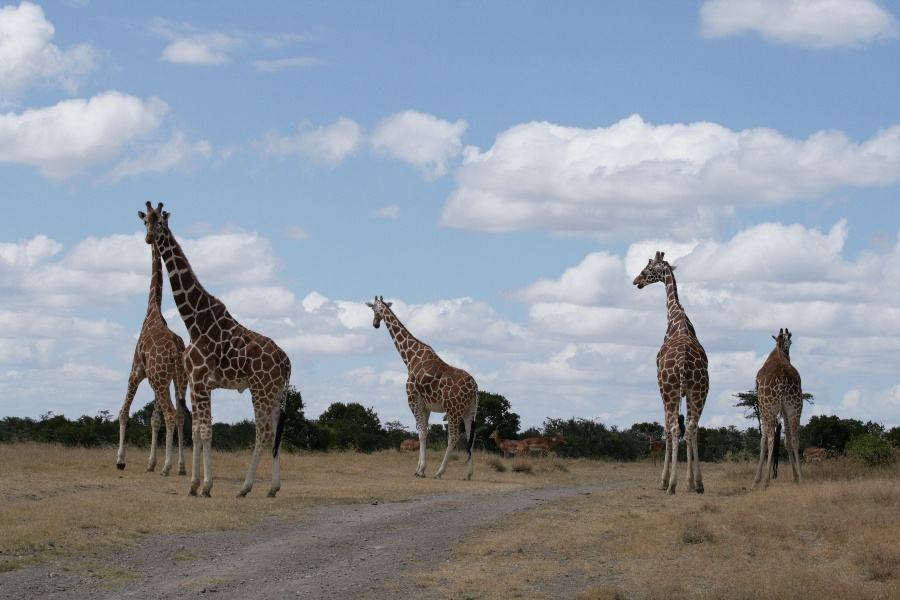giraffe: (141, 196, 304, 498), (362, 287, 487, 491), (108, 200, 194, 480), (626, 248, 715, 497), (745, 324, 817, 490)
